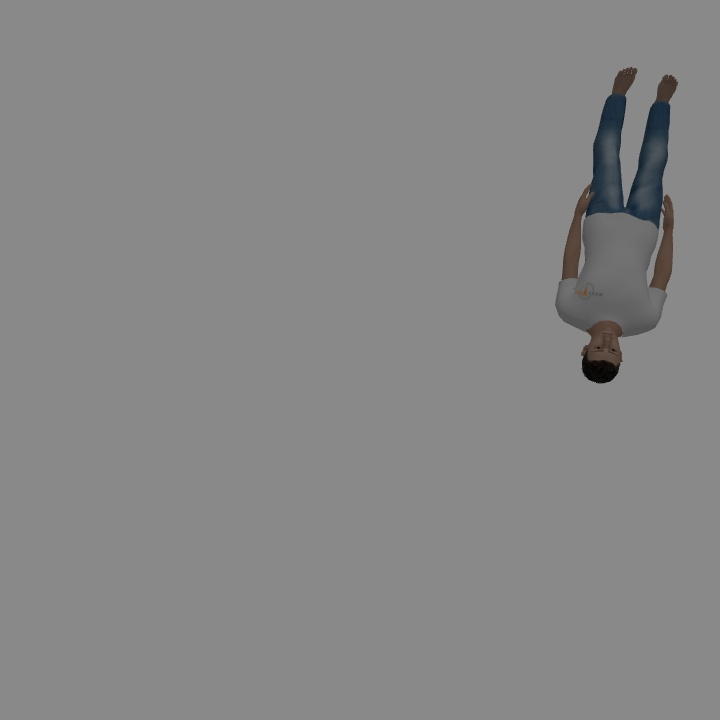victim: (555, 64, 675, 384)
